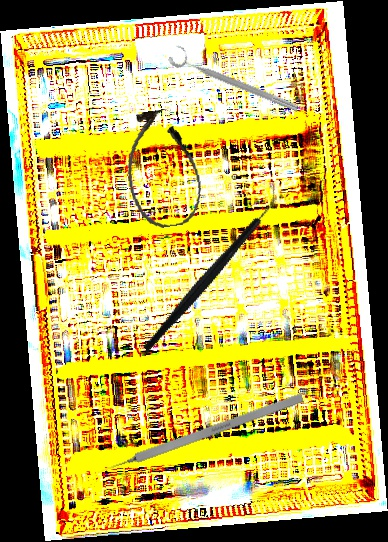Cannula: (118, 105, 207, 232)
Chopper: (105, 184, 314, 355)
Fixation Ring: (166, 42, 304, 116)
Hook Surgical: (95, 393, 305, 477)
